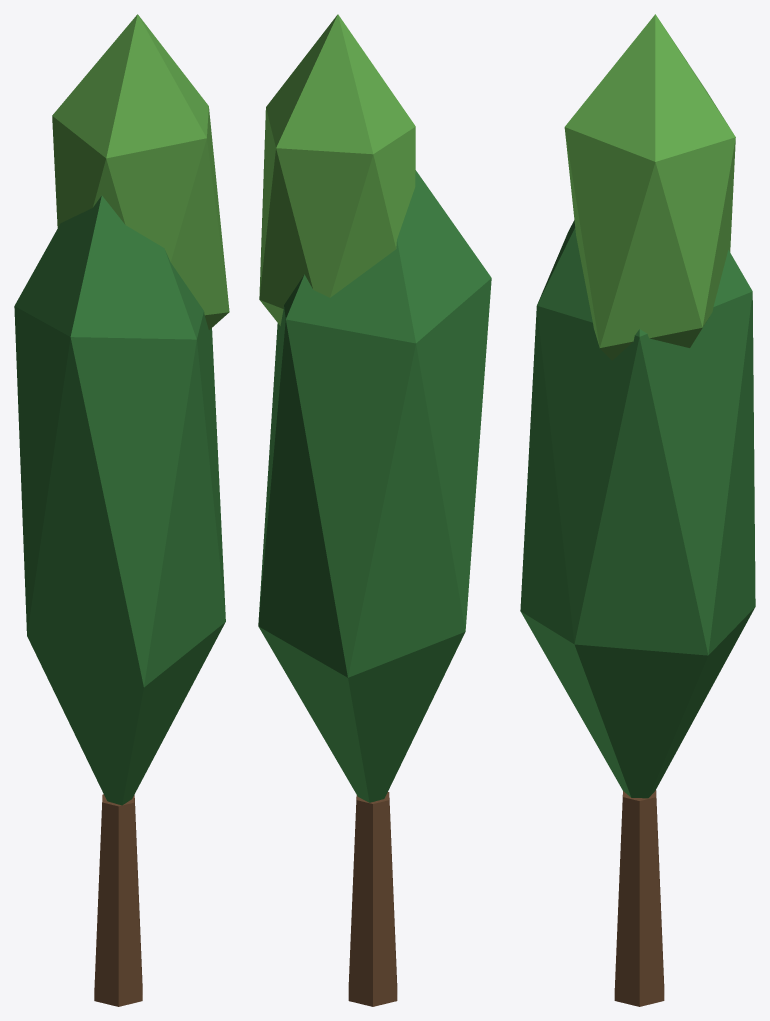
The model's file is tree_poplar.glb.
3 views of the same model, side by side, from view 1: azimuth 30°, elevation 25°; view 2: azimuth 150°, elevation 25°; view 3: azimuth 270°, elevation 25° (orthographic). The views are drawn at different scales.
Parts seen in each view (by area): view 1: tree_poplar; view 2: tree_poplar; view 3: tree_poplar.
Part boxes in pixels (left/top/right/bottom): tree_poplar: left=14, top=14, right=229, bottom=1006; tree_poplar: left=258, top=14, right=491, bottom=1006; tree_poplar: left=520, top=14, right=755, bottom=1006.
Bounding box in the file's own units: 0.1413 × 0.6898 × 0.1479.
